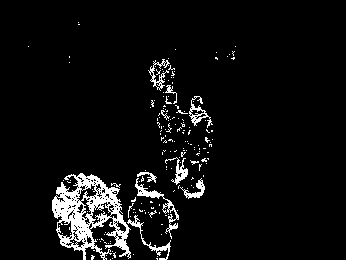person: (126, 171, 178, 260), (80, 173, 130, 260), (176, 94, 215, 199), (52, 174, 88, 260), (155, 89, 184, 170)
